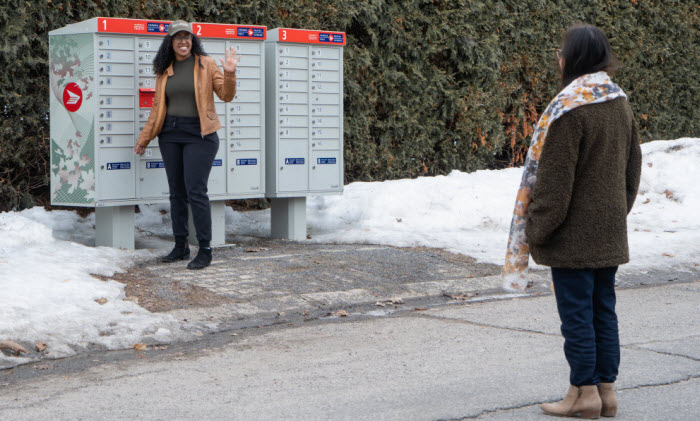Good: (135, 23, 646, 421)
